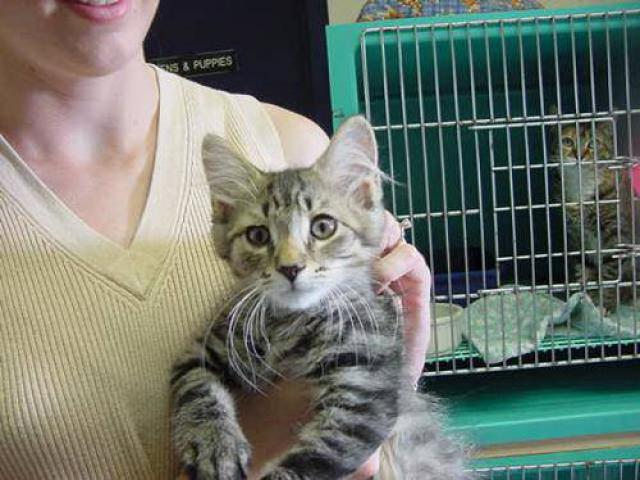cat: (156, 113, 449, 472), (536, 103, 640, 320)
